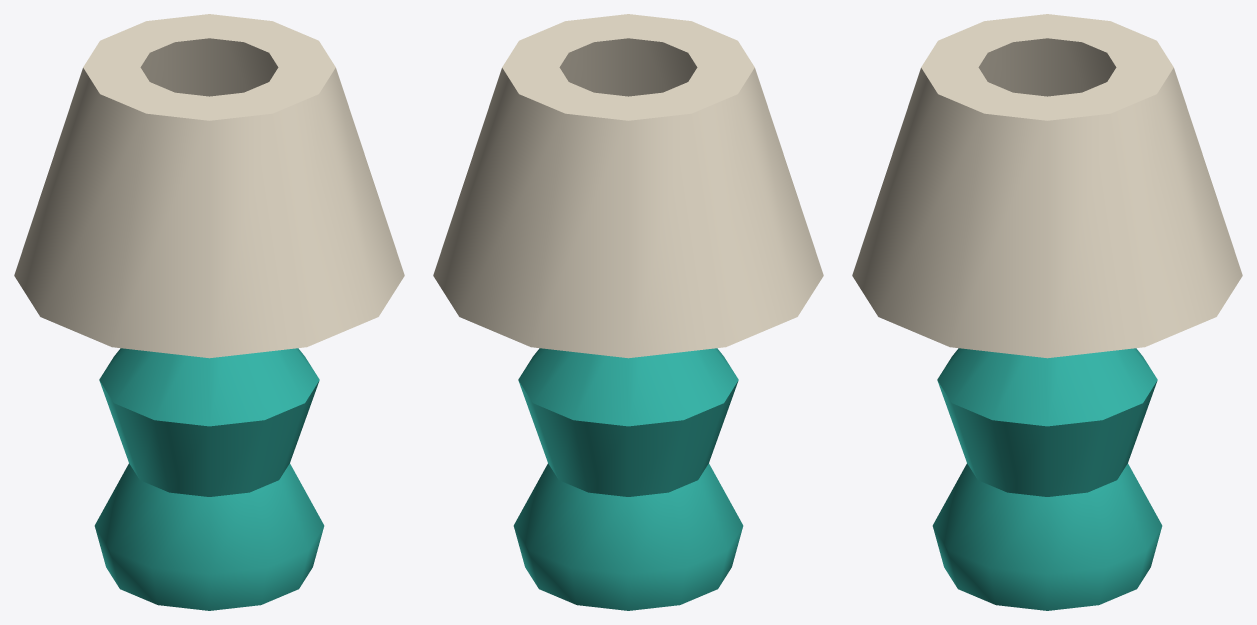
Rendered from TableLamp.fbx.
The picture shows the model from 3 angles, left to right: view 1: azimuth 30°, elevation 25°; view 2: azimuth 150°, elevation 25°; view 3: azimuth 270°, elevation 25°; orthographic projection.
Visible parts, largest first — view 1: TableLamp; view 2: TableLamp; view 3: TableLamp.
Part boxes in pixels (x1,y1,x2,y2): TableLamp: [14, 14, 404, 610]; TableLamp: [433, 14, 823, 610]; TableLamp: [852, 14, 1242, 610].
Size of the model in its own units: 1.7 by 2.4 by 1.7.
Materials: 1 (1 with a texture image).
